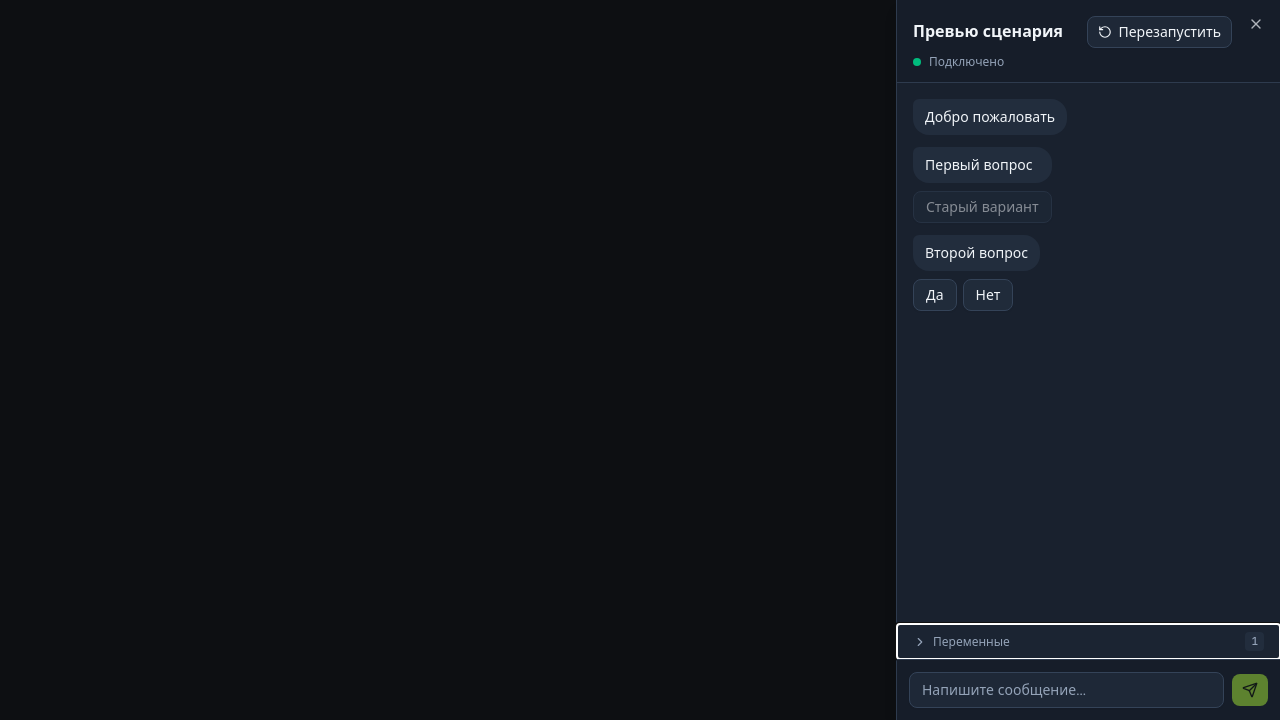
PreviewPanel › отрисовывает сообщения, кнопки вопросов (устаревшие неактивны), системные сообщения и переменные
The width and height of the screenshot is (1280, 720).
Expected: the text "Подключено" is shown, 929,54 -> 1004,70
Expected: the text "Добро пожаловать" is shown, 913,99 -> 1067,135
Click the button "Да" at (935,295), box 913,279 -> 956,311
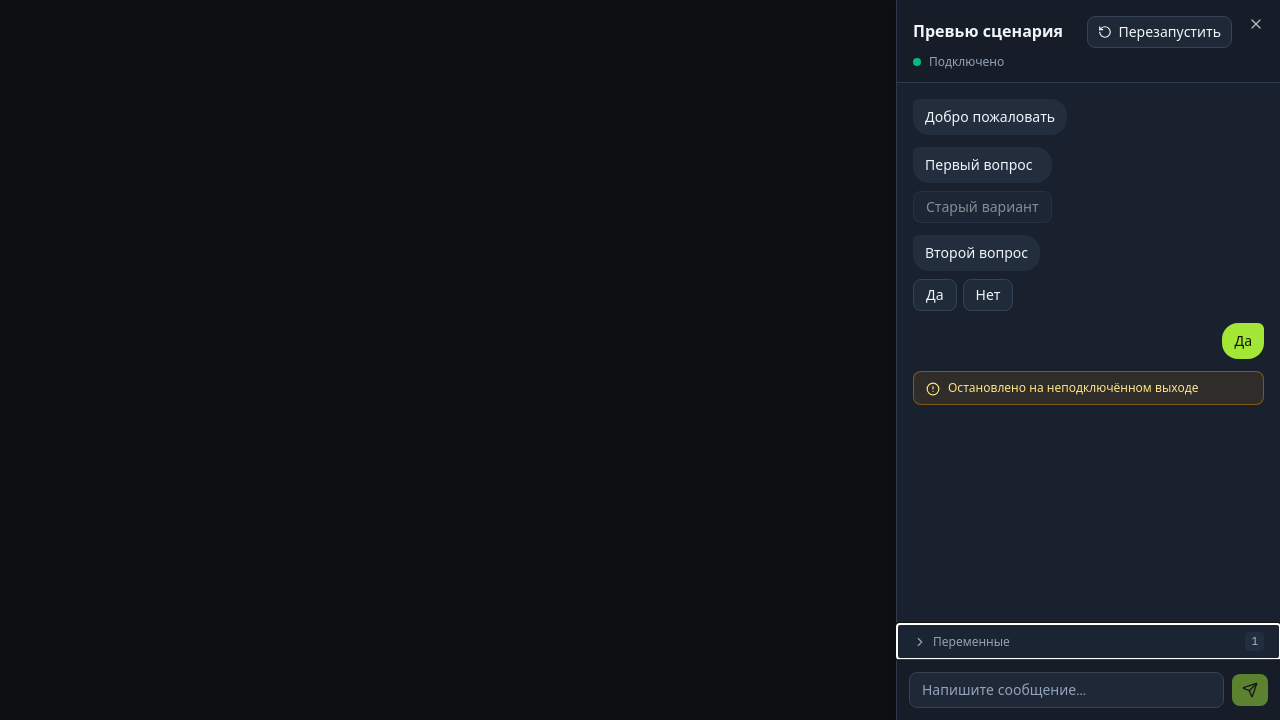
Result: the text "Остановлено на неподключённом выходе" is shown at 948,380 -> 1198,396
Click the button "Переменные 1" at (971,642), box 897,624 -> 1279,659
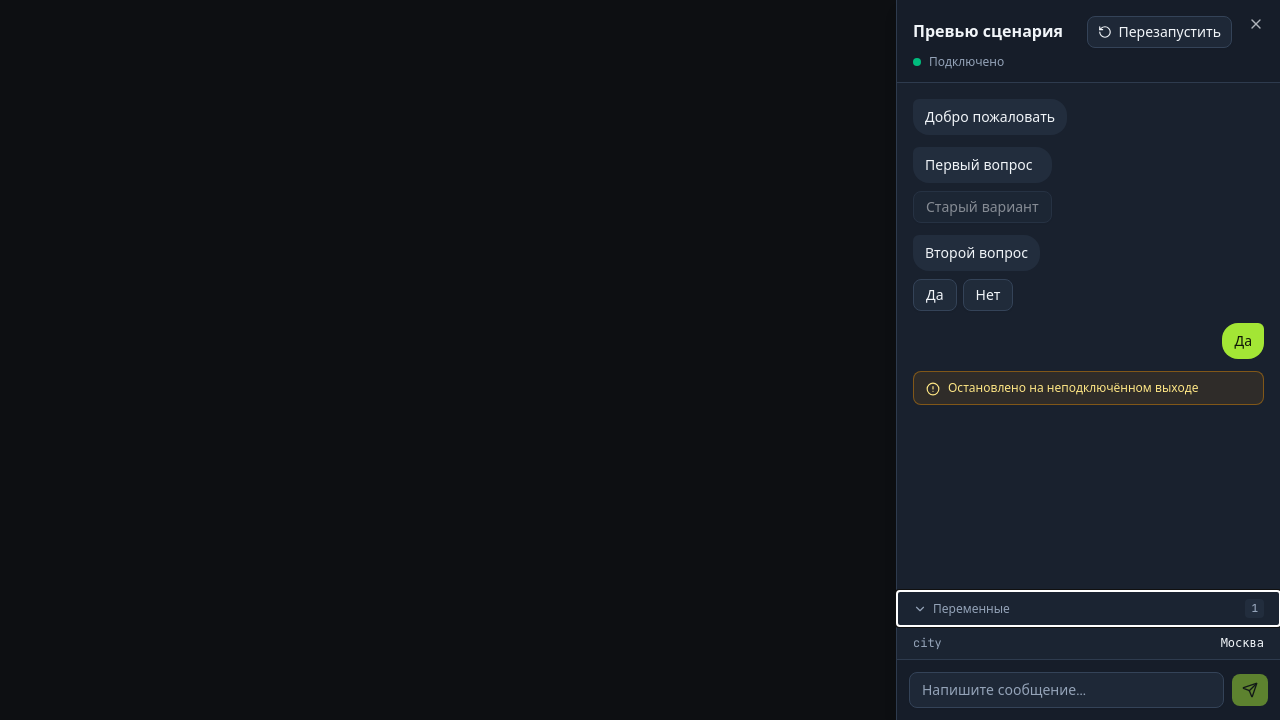
Result: the text "city" is shown at 913,635 -> 942,651
Result: the text "Москва" is shown at 1221,635 -> 1264,651
